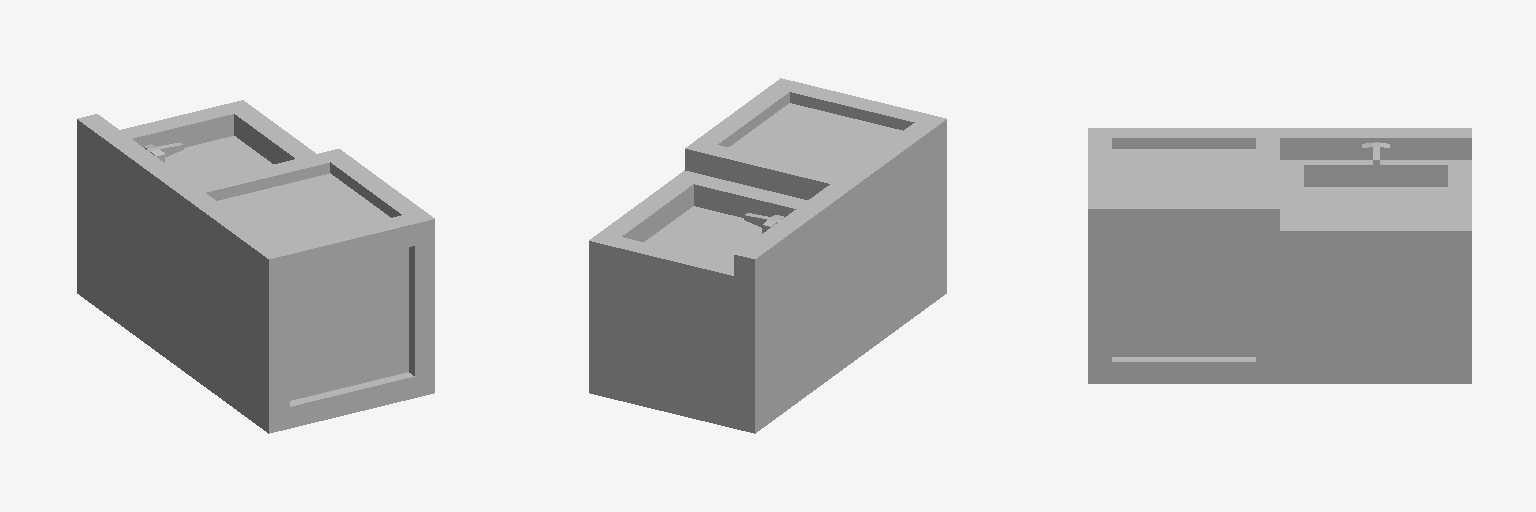
Rendered from zebon_sink.obj.
3 renders of one model, left to right at view 1: azimuth 30°, elevation 25°; view 2: azimuth 150°, elevation 25°; view 3: azimuth 270°, elevation 25°, orthographic.
Size of the model in its own units: 1 by 1 by 2.